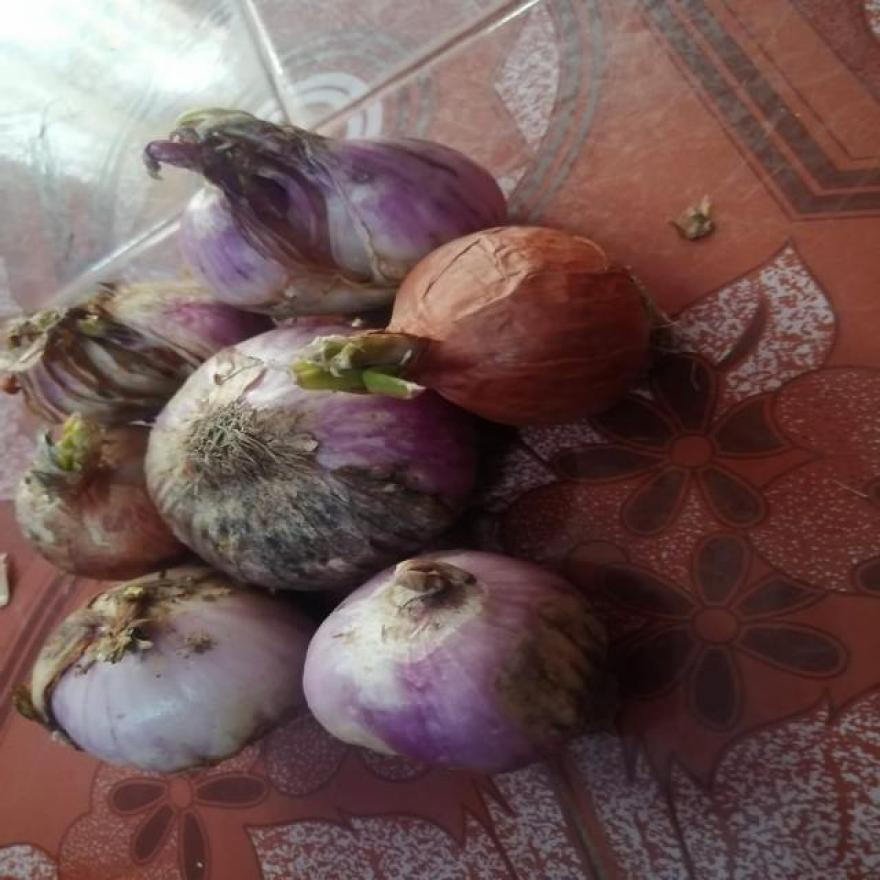Rotten: (162, 152, 390, 288), (509, 614, 619, 728), (19, 332, 165, 402), (228, 501, 421, 547)
Sprouted: (297, 349, 430, 393), (27, 434, 109, 484), (154, 115, 286, 146)
